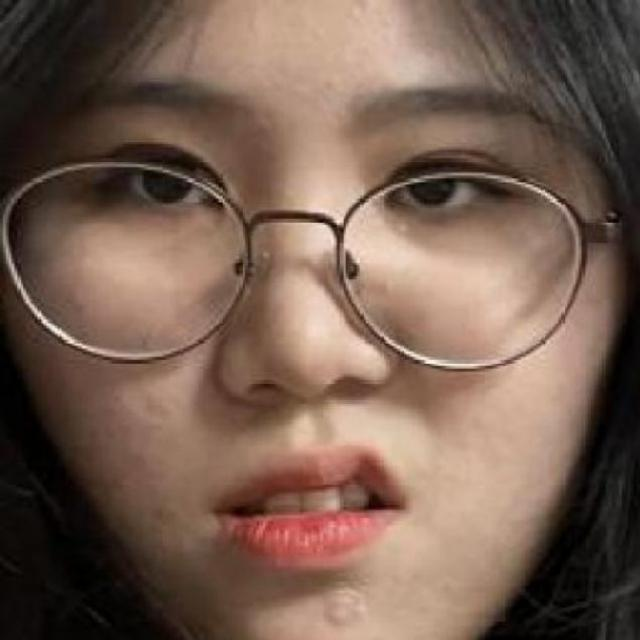Angry: (18, 35, 630, 595)
